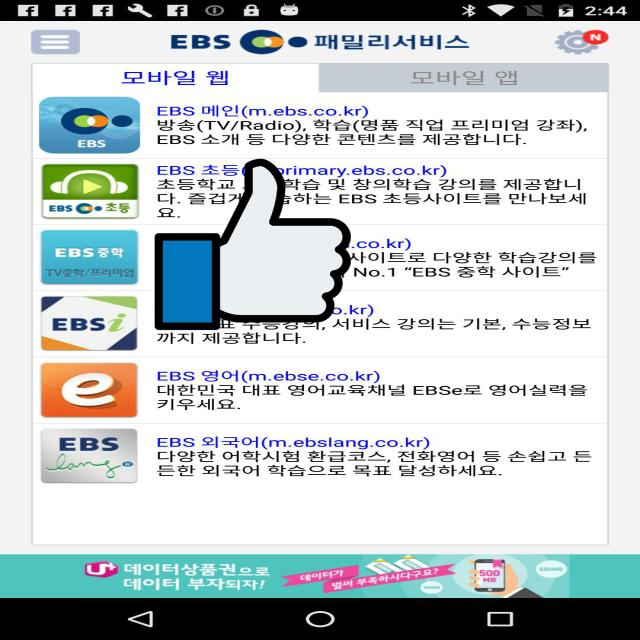privacy zuckering: (154, 155, 350, 334)
